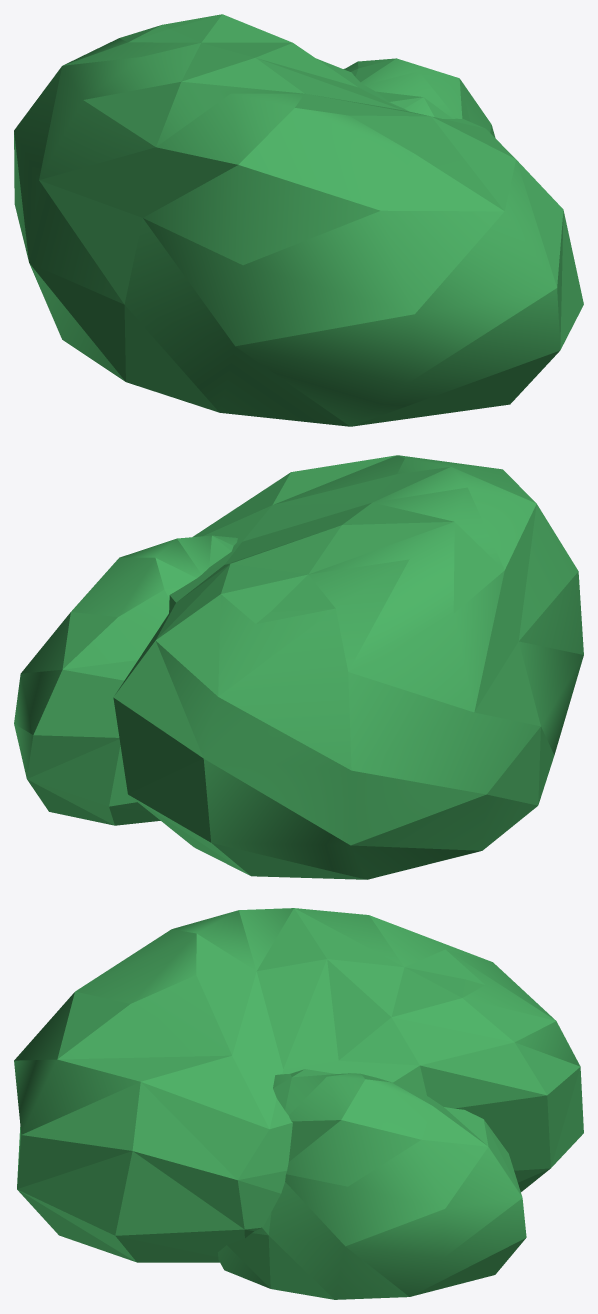
File: a_z3_bush_02.fbx
3 renders of one model, top to bottom at view 1: azimuth 30°, elevation 25°; view 2: azimuth 150°, elevation 25°; view 3: azimuth 270°, elevation 25°, orthographic. The views are drawn at different scales.
Visible parts, largest first — view 1: a_z3_bush_02; view 2: a_z3_bush_02; view 3: a_z3_bush_02.
Boxes of the visible parts, bbox=[...] form: a_z3_bush_02: bbox=[14, 14, 583, 426]; a_z3_bush_02: bbox=[14, 455, 583, 879]; a_z3_bush_02: bbox=[14, 908, 583, 1299].
Bounding box in the file's own units: 160 × 95.52 × 199.
